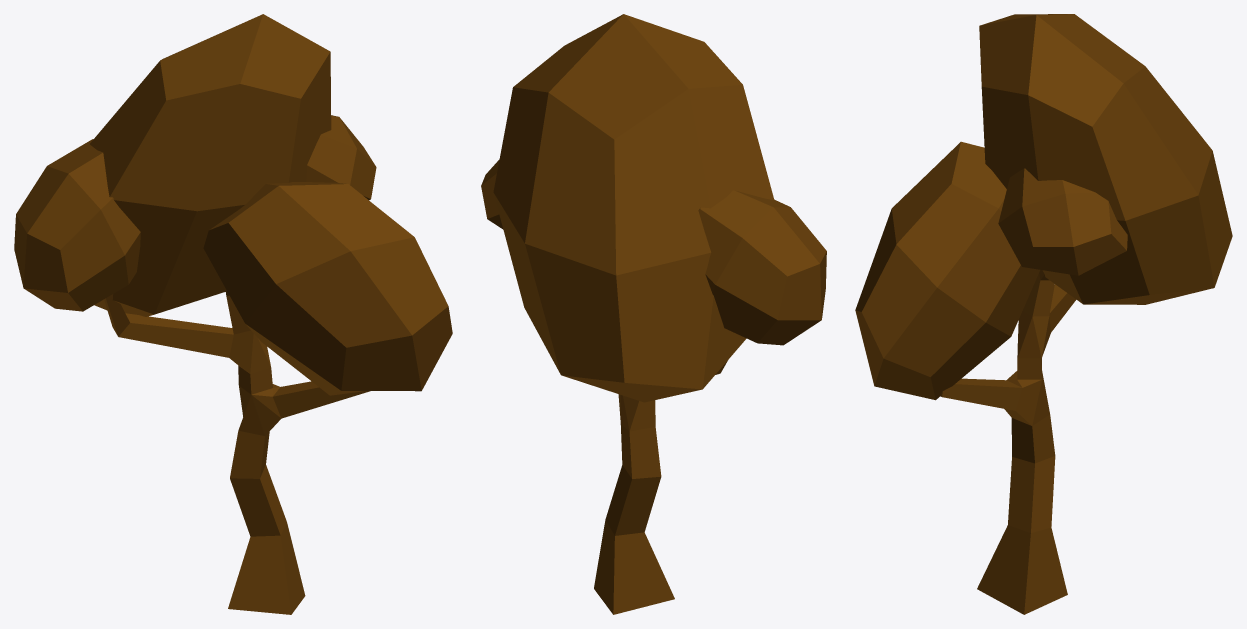
File: Sc_Arbol_1.fbx
3 renders of one model, left to right at view 1: azimuth 30°, elevation 25°; view 2: azimuth 150°, elevation 25°; view 3: azimuth 270°, elevation 25°, orthographic.
Parts seen in each view (by area): view 1: ArbolBosque; view 2: ArbolBosque; view 3: ArbolBosque.
Boxes of the visible parts, x1,y1,x2,y2 form: ArbolBosque: (14, 14, 452, 614); ArbolBosque: (481, 14, 826, 614); ArbolBosque: (855, 14, 1232, 614).
Bounding box in the file's own units: 622 × 1031 × 605.
